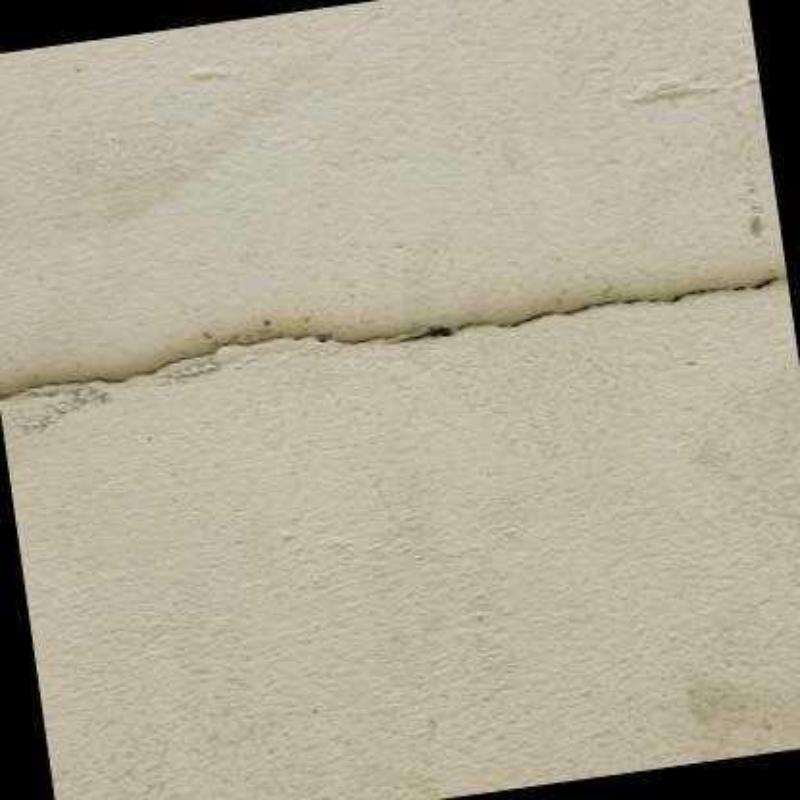pothole: (0, 274, 787, 400)
